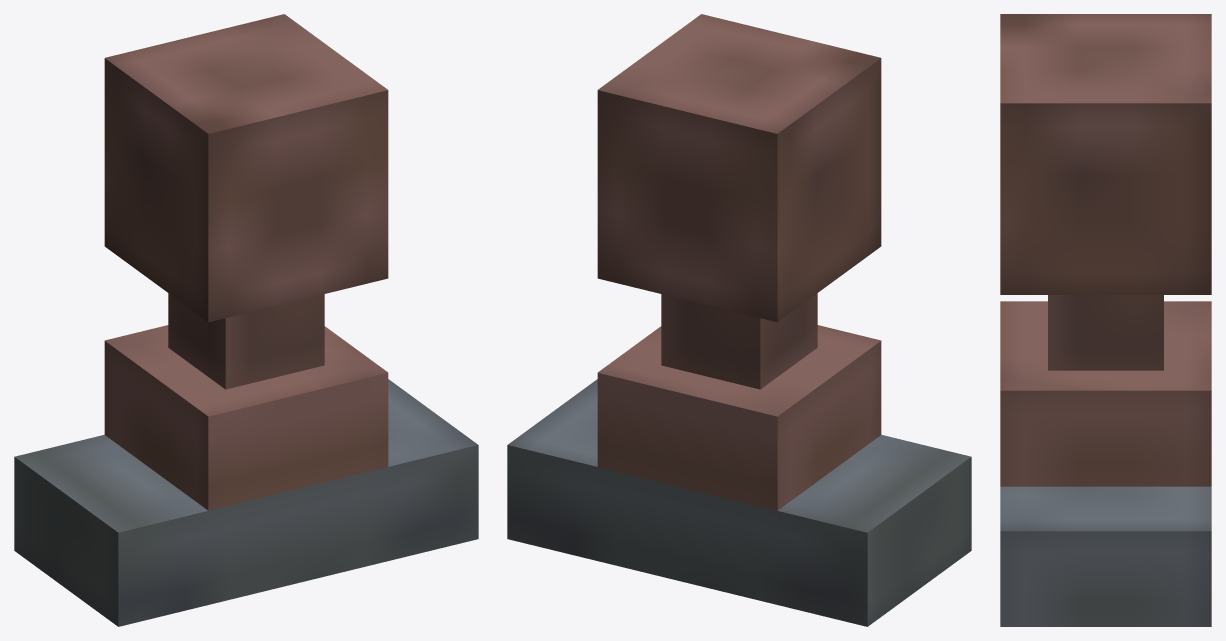
The model's file is lil_stub_type_01_red.fbx.
3 renders of one model, left to right at view 1: azimuth 30°, elevation 25°; view 2: azimuth 150°, elevation 25°; view 3: azimuth 270°, elevation 25°, orthographic.
Visible parts, largest first — view 1: lil_stub_type_01_red; view 2: lil_stub_type_01_red; view 3: lil_stub_type_01_red.
Part boxes in pixels (x1,y1,x2,y2): lil_stub_type_01_red: [14, 14, 478, 626]; lil_stub_type_01_red: [507, 14, 971, 626]; lil_stub_type_01_red: [1000, 14, 1211, 626].
Bounding box in the file's own units: 8 × 10 × 4.
